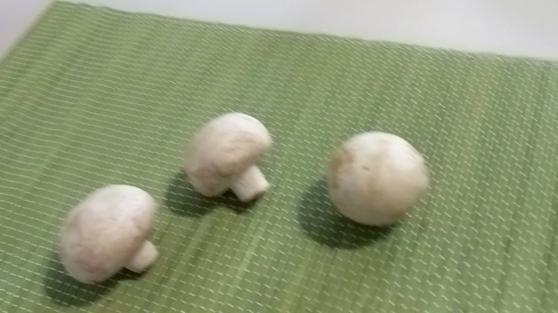champignon: (322, 124, 435, 227), (63, 183, 164, 294), (184, 110, 277, 208)
